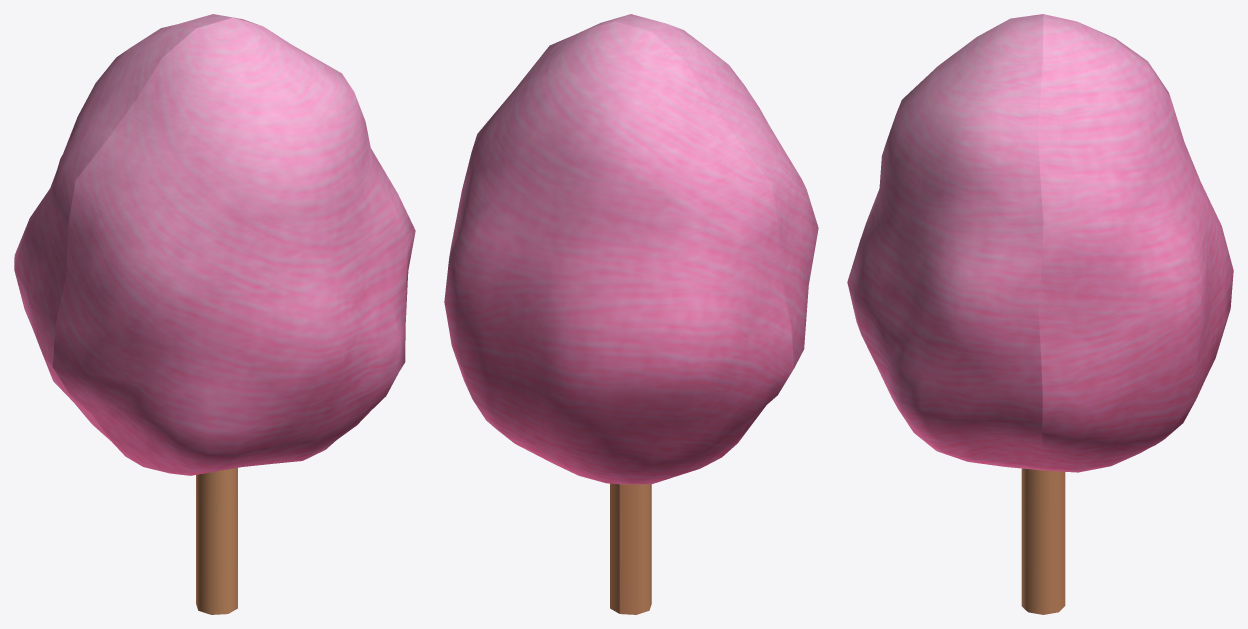
Rendered from CottonCandy_1.fbx.
3 renders of one model, left to right at view 1: azimuth 30°, elevation 25°; view 2: azimuth 150°, elevation 25°; view 3: azimuth 270°, elevation 25°, orthographic.
Visible parts, largest first — view 1: CottonCandy_1; view 2: CottonCandy_1; view 3: CottonCandy_1.
Part boxes in pixels (x1,y1,x2,y2): CottonCandy_1: (14, 14, 415, 614); CottonCandy_1: (444, 14, 818, 614); CottonCandy_1: (847, 14, 1233, 614).
Size of the model in its own units: 79.23 by 136 by 81.73.
Materials: 1 (1 with a texture image).
